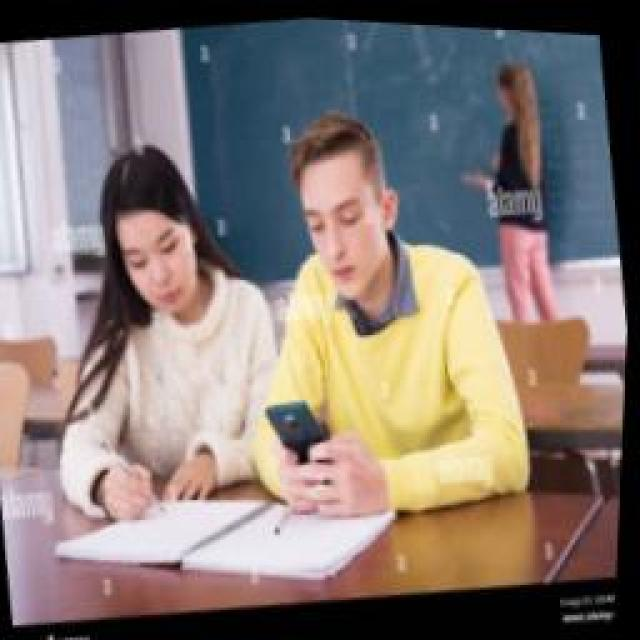phone: (210, 80, 548, 525)
study: (12, 120, 298, 540)
